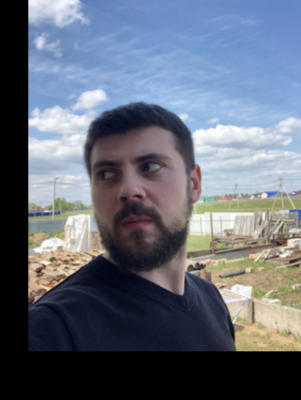without_mask: (90, 143, 177, 270)
